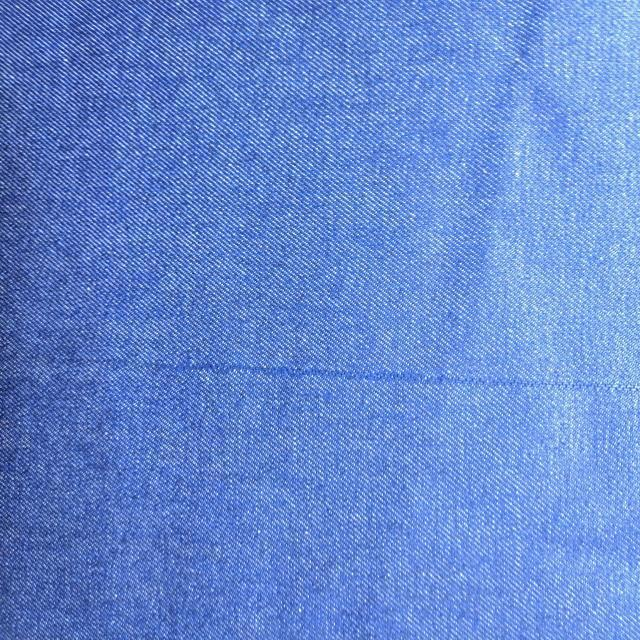Line: (62, 353, 627, 397)
